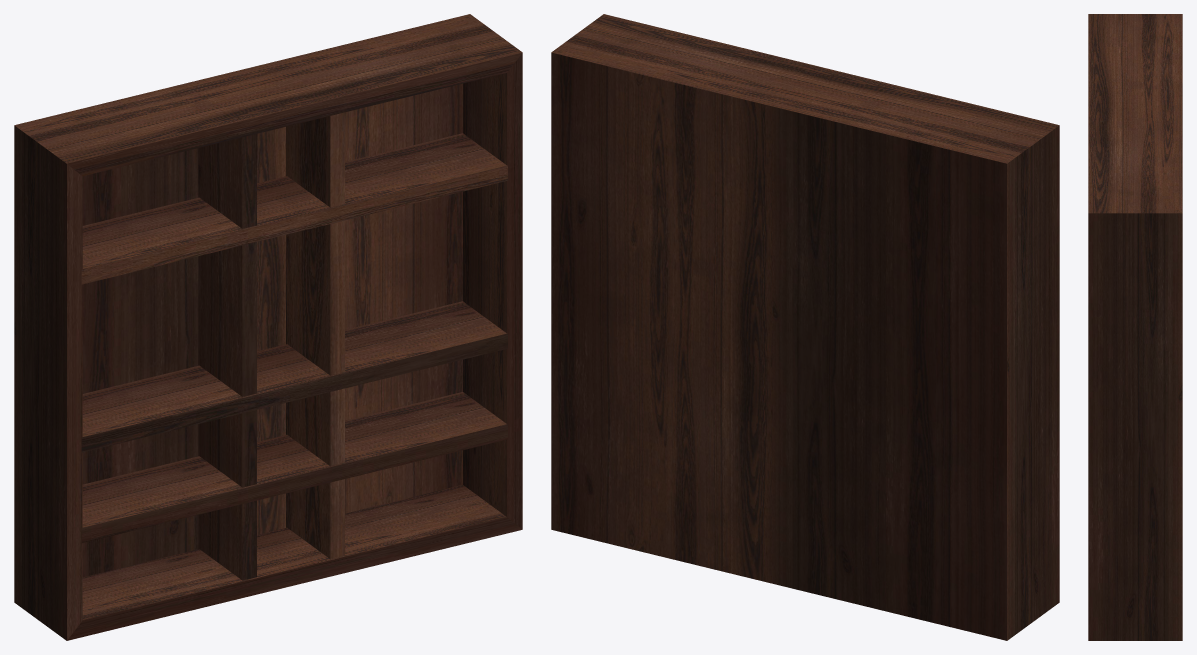
Rendered from square-shadow-box.obj.
3 renders of one model, left to right at view 1: azimuth 30°, elevation 25°; view 2: azimuth 150°, elevation 25°; view 3: azimuth 270°, elevation 25°, orthographic. The views are drawn at different scales.
Parts seen in each view (by area): view 1: Frame, x-axis-dividers, y-axis-dividers; view 2: Frame; view 3: Frame.
Part boxes in pixels (box(x1,y1,x2,y2)): Frame: box(14, 14, 522, 640); x-axis-dividers: box(81, 133, 507, 542); y-axis-dividers: box(198, 112, 344, 580); Frame: box(551, 14, 1059, 640); Frame: box(1088, 14, 1182, 640).
Size of the model in its own units: 108 by 108 by 21.68.
